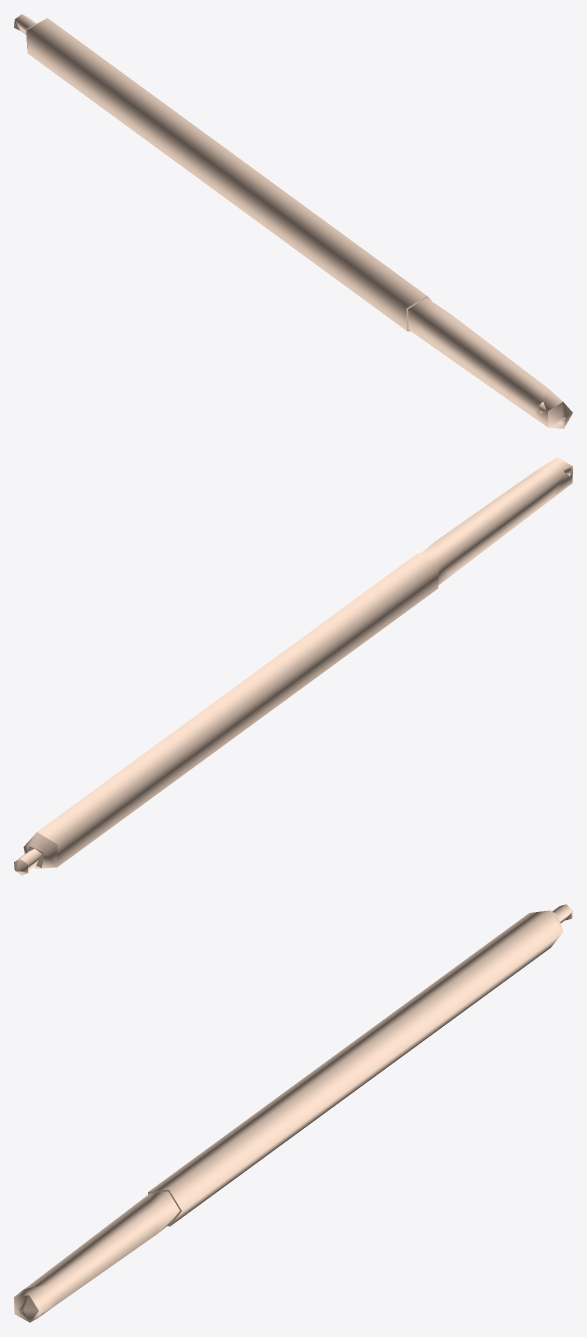
Rendered from Axe Roue de temps.obj.
The picture shows the model from 3 angles, top to bottom: view 1: azimuth 30°, elevation 25°; view 2: azimuth 150°, elevation 25°; view 3: azimuth 330°, elevation 25°; orthographic projection.
Parts seen in each view (by area): view 1: Face_7, Face_9; view 2: Face_7, Face_9, Face_6; view 3: Face_7, Face_9.
Part boxes in pixels (<box>): Face_7: <box>27,18,426,330</box>; Face_9: <box>408,298,568,427</box>; Face_7: <box>37,553,438,867</box>; Face_9: <box>420,457,572,585</box>; Face_6: <box>23,832,57,868</box>; Face_7: <box>148,910,562,1225</box>; Face_9: <box>14,1191,179,1322</box>.
Size of the model in its own units: 0.00428 by 0.00447 by 0.1196.
